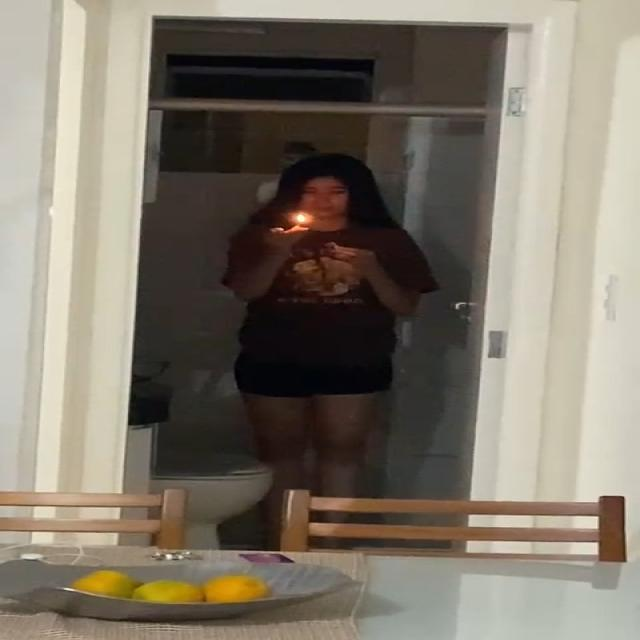fire: (290, 207, 315, 230)
